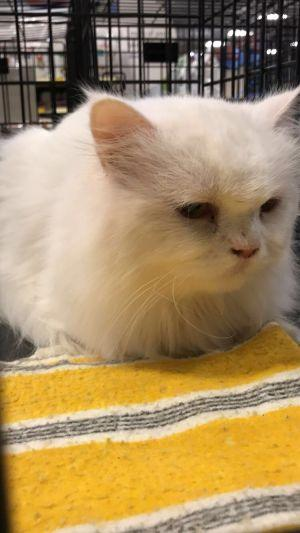persian: (69, 71, 300, 330)
